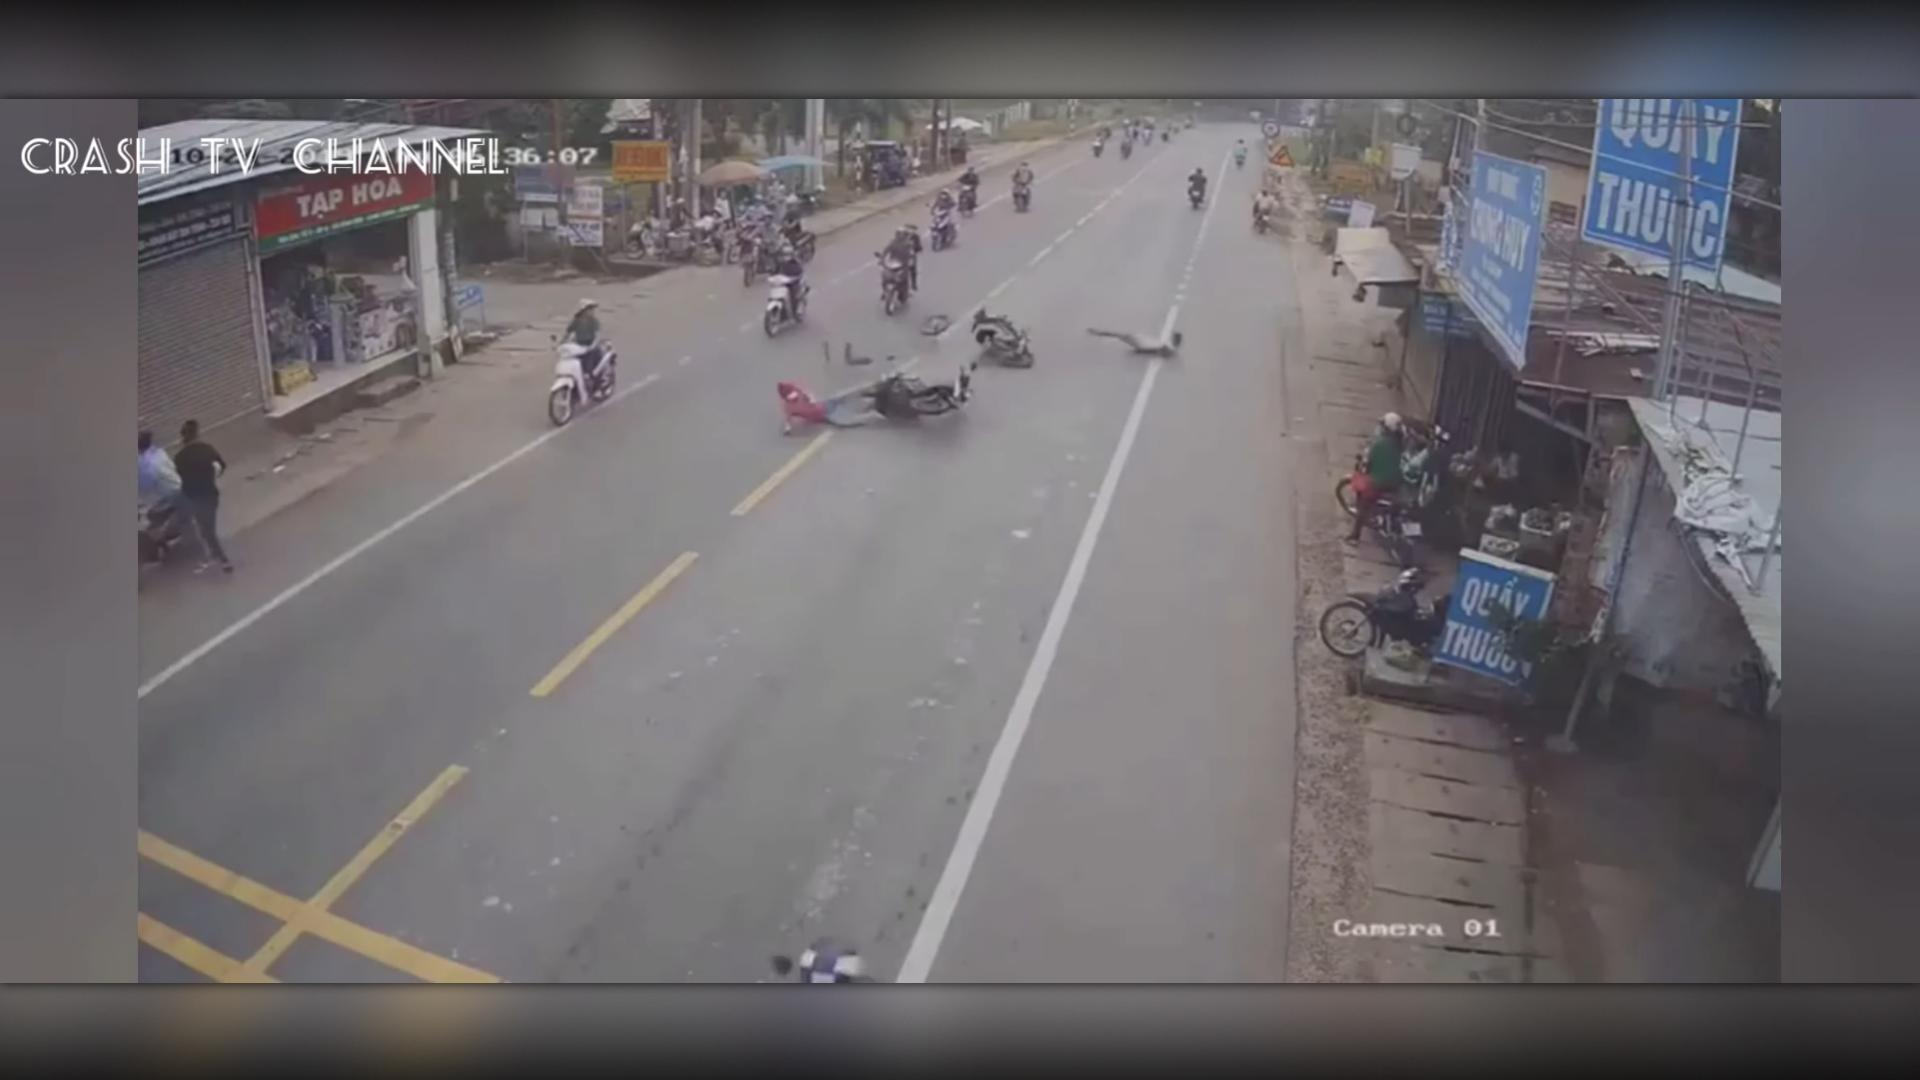accident: (769, 289, 1196, 446), (880, 310, 1034, 421)
